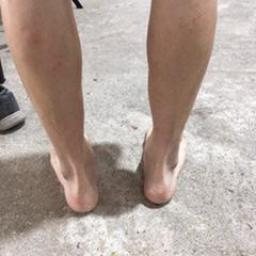Back View -Both Feet-: (36, 118, 192, 220)
